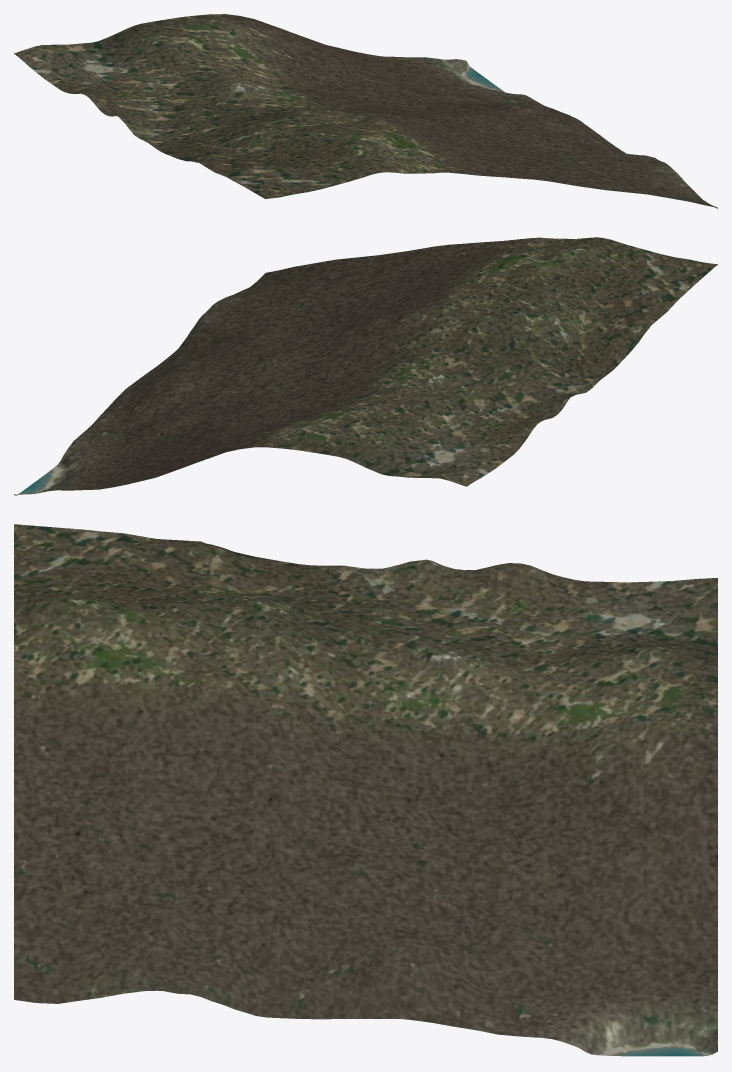
3 renders of one model, top to bottom at view 1: azimuth 30°, elevation 25°; view 2: azimuth 150°, elevation 25°; view 3: azimuth 270°, elevation 25°, orthographic. The views are drawn at different scales.
Size of the model in its own units: 500 by 172 by 481.
1 material, 1 textured.
